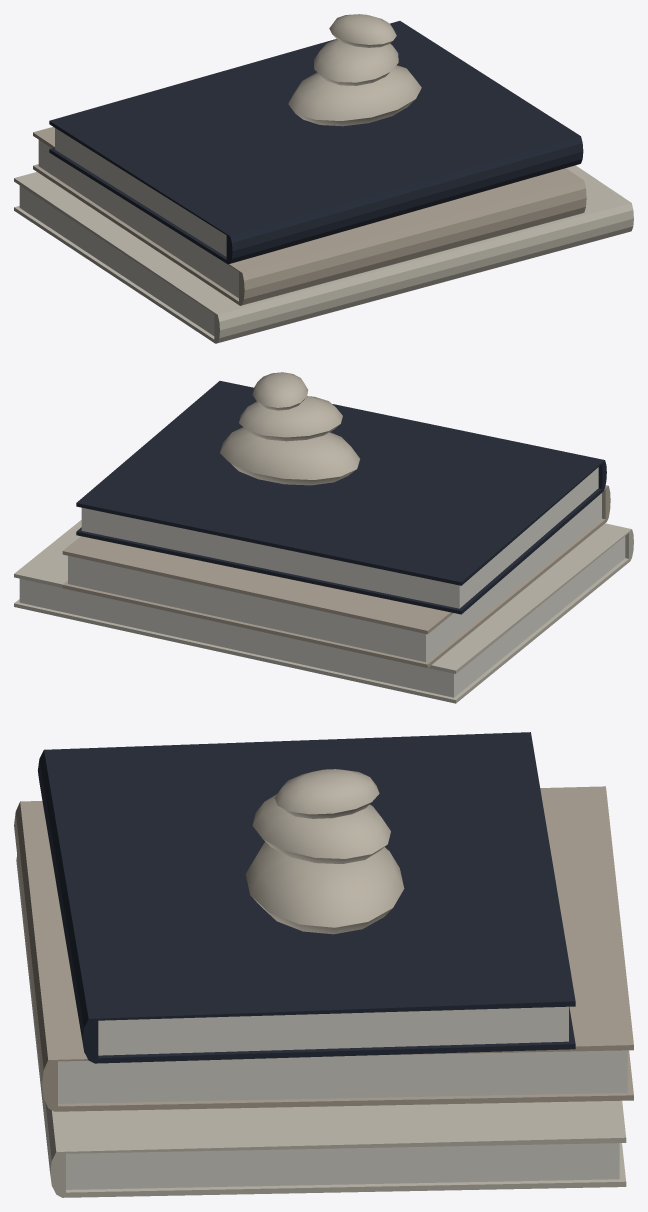
File: decor_d_books.gltf
3 views of the same model, one above another, from view 1: azimuth 30°, elevation 25°; view 2: azimuth 150°, elevation 25°; view 3: azimuth 270°, elevation 25° (orthographic). The views are drawn at different scales.
Parts seen in each view (by area): view 1: DecorD_Books_Book03_Ink_NoCollide, DecorD_Books_Book01_Linen_NoCollide, DecorD_Books_Book02_Oat_NoCollide, DecorD_Books_Ornament01_Stoneware_NoCollide, DecorD_Books_Book02_Paper_NoCollide, DecorD_Books_Book01_Paper_NoCollide, DecorD_Books_Book03_Paper_NoCollide; view 2: DecorD_Books_Book03_Ink_NoCollide, DecorD_Books_Book01_Paper_NoCollide, DecorD_Books_Book02_Paper_NoCollide, DecorD_Books_Book02_Oat_NoCollide, DecorD_Books_Book03_Paper_NoCollide, DecorD_Books_Book01_Linen_NoCollide, DecorD_Books_Ornament01_Stoneware_NoCollide; view 3: DecorD_Books_Book03_Ink_NoCollide, DecorD_Books_Book02_Oat_NoCollide, DecorD_Books_Book01_Linen_NoCollide, DecorD_Books_Book02_Paper_NoCollide, DecorD_Books_Book01_Paper_NoCollide, DecorD_Books_Ornament01_Stoneware_NoCollide, DecorD_Books_Book03_Paper_NoCollide.
Part boxes in pixels (<box>): DecorD_Books_Book03_Ink_NoCollide: <box>49,21,583,264</box>; DecorD_Books_Book01_Linen_NoCollide: <box>14,165,633,343</box>; DecorD_Books_Book02_Oat_NoCollide: <box>33,127,586,305</box>; DecorD_Books_Ornament01_Stoneware_NoCollide: <box>288,14,421,126</box>; DecorD_Books_Book02_Paper_NoCollide: <box>38,140,238,298</box>; DecorD_Books_Book01_Paper_NoCollide: <box>19,185,214,335</box>; DecorD_Books_Book03_Paper_NoCollide: <box>55,128,226,256</box>; DecorD_Books_Book03_Ink_NoCollide: <box>76,381,606,614</box>; DecorD_Books_Book01_Paper_NoCollide: <box>19,536,625,697</box>; DecorD_Books_Book02_Paper_NoCollide: <box>68,493,601,662</box>; DecorD_Books_Book02_Oat_NoCollide: <box>62,485,610,667</box>; DecorD_Books_Book03_Paper_NoCollide: <box>81,467,598,608</box>; DecorD_Books_Book01_Linen_NoCollide: <box>14,520,633,703</box>; DecorD_Books_Ornament01_Stoneware_NoCollide: <box>220,372,359,485</box>; DecorD_Books_Book03_Ink_NoCollide: <box>37,732,575,1063</box>; DecorD_Books_Book02_Oat_NoCollide: <box>14,786,633,1111</box>; DecorD_Books_Book01_Linen_NoCollide: <box>16,855,626,1197</box>; DecorD_Books_Book02_Paper_NoCollide: <box>58,1050,627,1103</box>; DecorD_Books_Book01_Paper_NoCollide: <box>66,1143,619,1189</box>; DecorD_Books_Ornament01_Stoneware_NoCollide: <box>245,769,404,934</box>; DecorD_Books_Book03_Paper_NoCollide: <box>98,1006,568,1055</box>.
Size of the model in its own units: 0.3724 by 0.1556 by 0.301.
